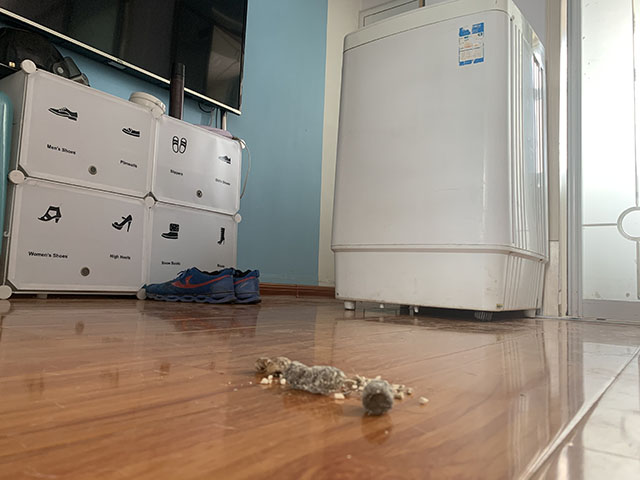cabinet: (1, 59, 243, 302)
feces: (253, 355, 346, 396), (362, 379, 394, 416)
